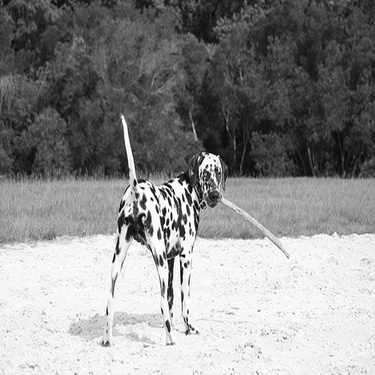dog: (87, 100, 232, 354)
